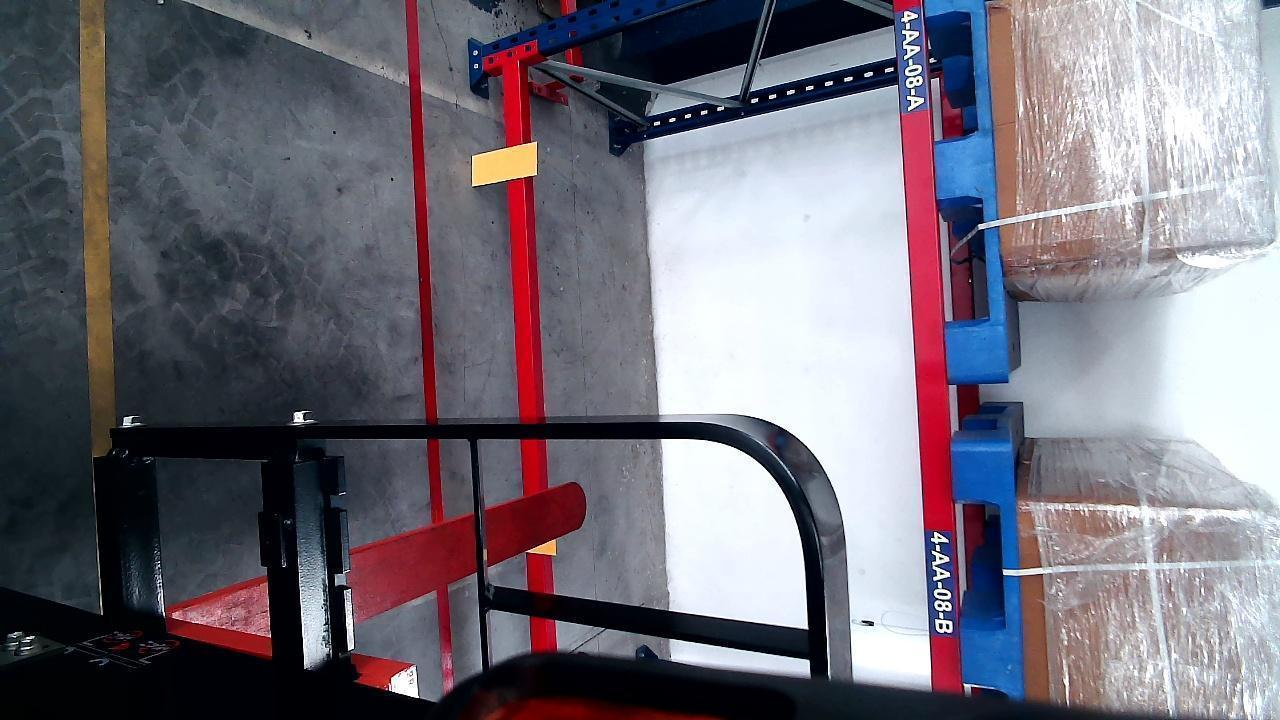red_line: (407, 2, 438, 424)
yellow_line: (81, 5, 116, 437)
